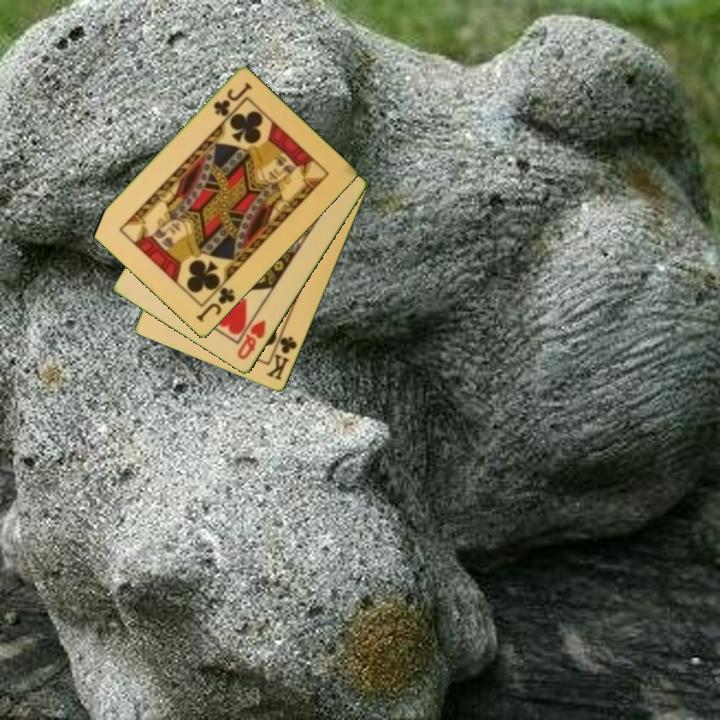Jc: (193, 278, 238, 325), (210, 79, 254, 120)
Kc: (263, 327, 300, 384)
Qh: (234, 317, 269, 363)
